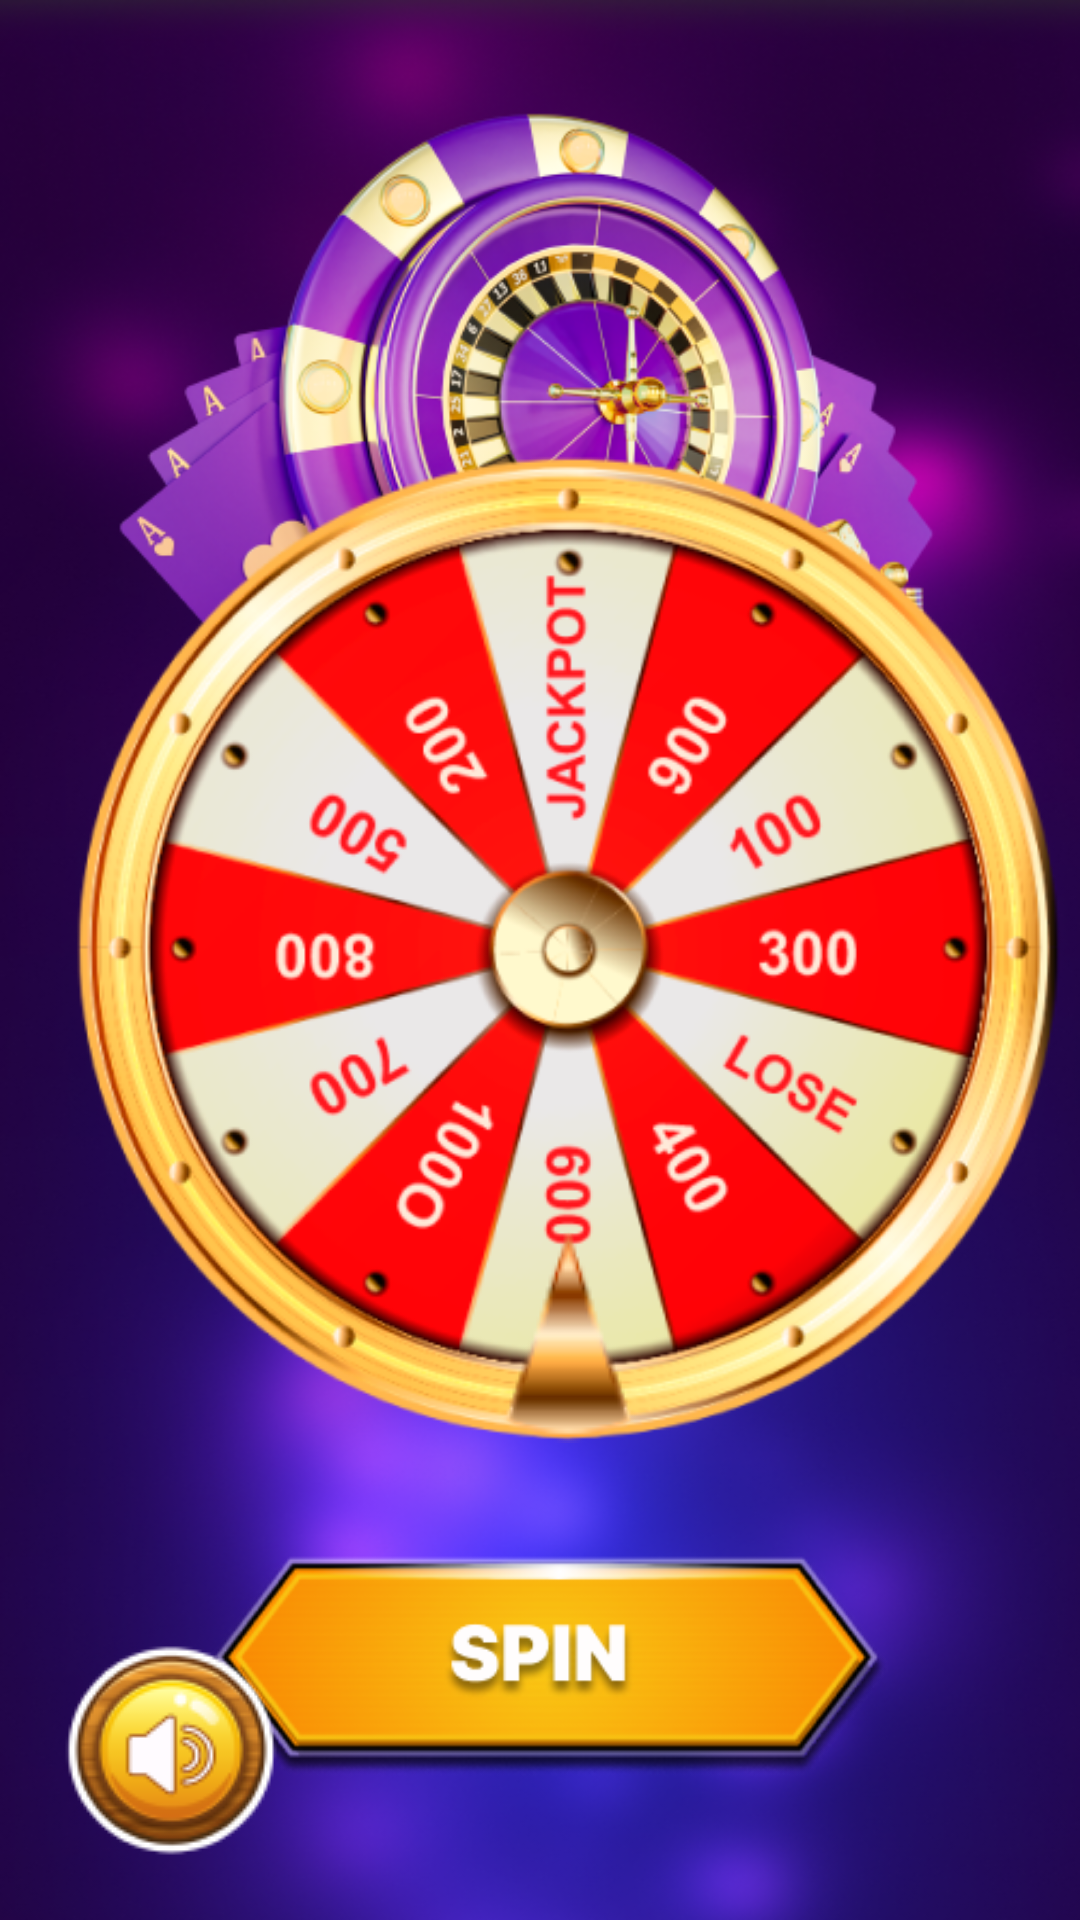

Where to tap for icons on this 1080*1920 app screen, as [x,y]:
marker: [568,1329]
sound: [169,1750]
